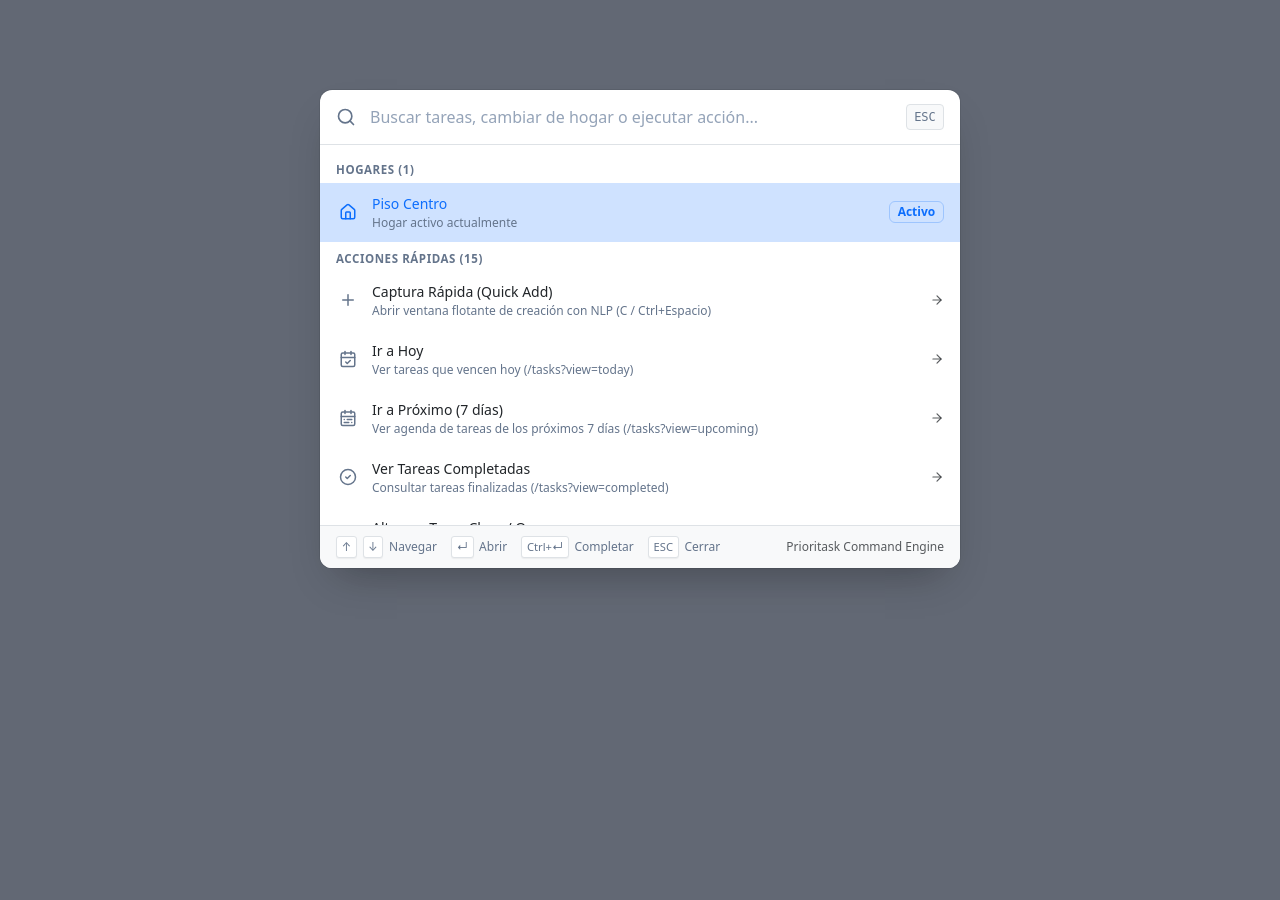
Test: CommandPaletteModal (Multi-Tier Instant Search & LRU Cache) › Capa 3: debe consultar el backend con debounce y fusionar resultados de forma deduplicada
The image size is (1280, 900).
Type "caldera" into the field with placeholder "Buscar tareas, cambiar de hogar o ejecutar acción..." at x=631, y=117, box x1=368 y1=104 x2=894 y2=130
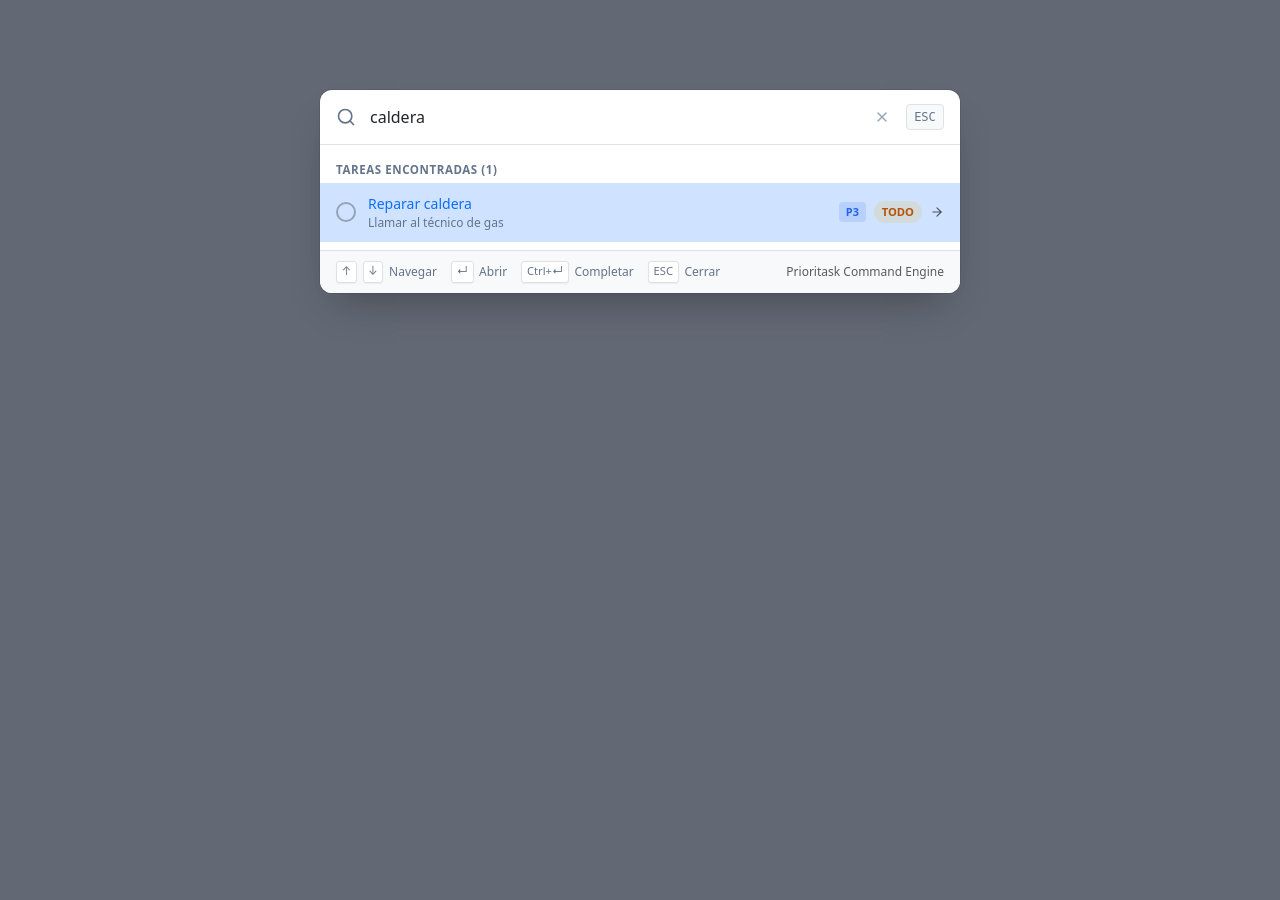
Check: the text "Reparar caldera" is shown, box x1=368 y1=194 x2=472 y2=213
